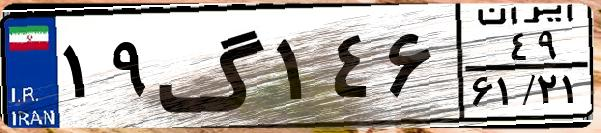1: (270, 28, 330, 110), (57, 26, 110, 100), (560, 70, 590, 125), (495, 70, 520, 125)
2: (535, 70, 560, 125)
4: (330, 28, 385, 110), (508, 27, 537, 80)
6: (385, 28, 445, 110), (470, 70, 495, 125)
9: (110, 28, 156, 98), (537, 27, 568, 80)
گ: (156, 12, 270, 120)
